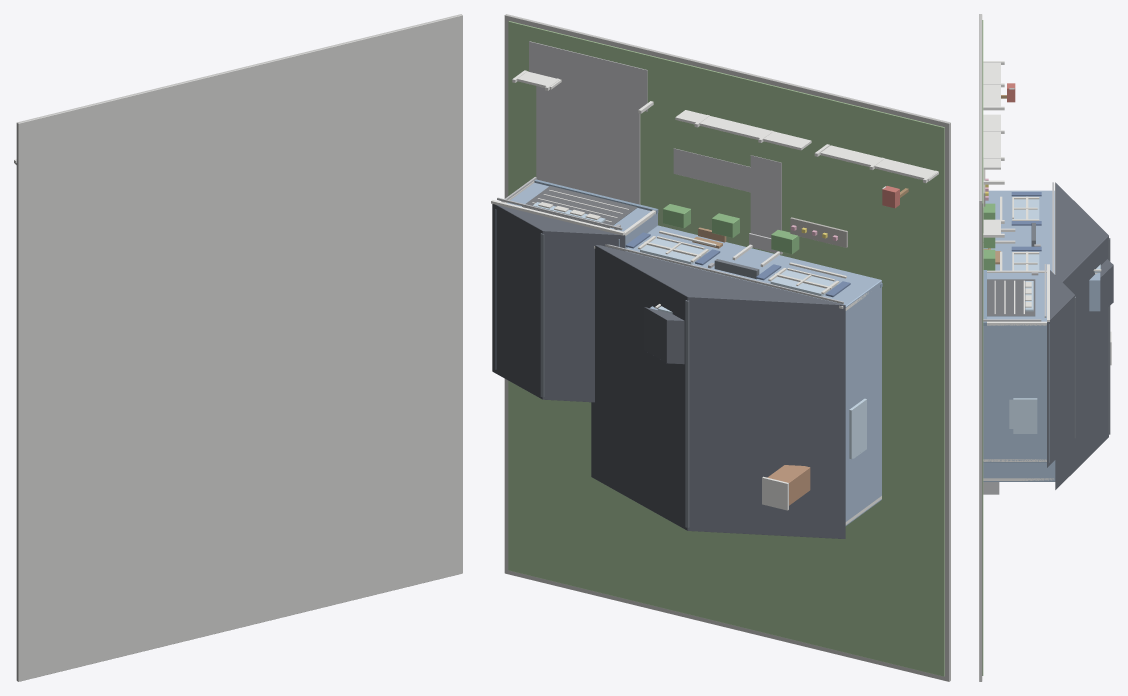
Rendered from personalhouse_capecod.fbx.
3 views of the same model, side by side, from view 1: azimuth 30°, elevation 25°; view 2: azimuth 150°, elevation 25°; view 3: azimuth 270°, elevation 25° (orthographic). The views are drawn at different scales.
Parts seen in each view (by area): view 1: GroundBase; view 2: YardGrass, Roof_SteepDark_Main, Roof_SteepDark_Garage, Driveway_Right, GroundBase, MainBody_BlueSiding, DrivewayApron_Right, Walkway_Join, Walkway_FrontDoor, DormerRoof, GarageDoor, FrontFence_MidSection (+11 smaller); view 3: Roof_SteepDark_Main, Garage_Right, Roof_SteepDark_Garage, MainBody_BlueSiding, GroundBase, GarageDoor, YardGrass, FrontFence_MidSection, SideWindow_Right_BIGGlass, FrontFence_LeftSection, DormerRoof, FrontWindows_01_BIGGlass (+7 smaller).
Boxes of the visible parts, x1,y1,x2,y2 form: GroundBase: [16, 14, 462, 681]; YardGrass: [508, 21, 944, 676]; Roof_SteepDark_Main: [591, 245, 845, 538]; Roof_SteepDark_Garage: [492, 204, 625, 402]; Driveway_Right: [536, 57, 640, 204]; GroundBase: [504, 14, 950, 681]; MainBody_BlueSiding: [626, 225, 881, 525]; DrivewayApron_Right: [529, 41, 647, 111]; Walkway_Join: [673, 148, 778, 199]; Walkway_FrontDoor: [750, 155, 781, 237]; DormerRoof: [644, 307, 684, 364]; GarageDoor: [522, 186, 637, 228]; FrontFence_MidSection: [675, 110, 811, 150]; Roof_SteepDark_Main: [1055, 182, 1108, 489]; Garage_Right: [983, 273, 1049, 462]; Roof_SteepDark_Garage: [1047, 270, 1074, 467]; MainBody_BlueSiding: [983, 190, 1055, 481]; GroundBase: [979, 14, 982, 681]; GarageDoor: [987, 279, 1035, 316]; YardGrass: [982, 20, 983, 675]; FrontFence_MidSection: [983, 114, 1000, 169]; SideWindow_Right_BIGGlass: [1013, 398, 1037, 433]; FrontFence_LeftSection: [983, 62, 1000, 106]; DormerRoof: [1100, 259, 1113, 314]; FrontWindows_01_BIGGlass: [1012, 199, 1039, 219].
Bounding box in the file's own units: 1500 × 1800 × 456.
